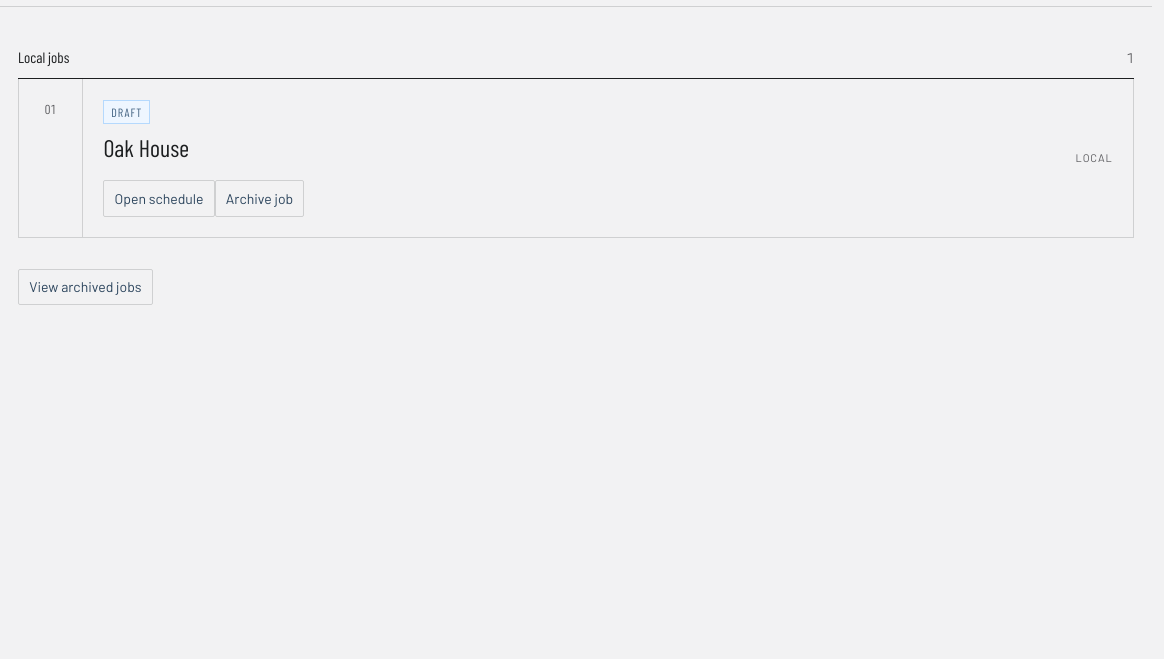
Scenario: task workspace › edits duration only in working days, preserves existing minute values, and rejects fractional-minute days
The width and height of the screenshot is (1164, 659).
Step 1. Click the button with aria-label "Open schedule for Oak House" → [159, 198], box [103,180,215,217]
(page scrolled)
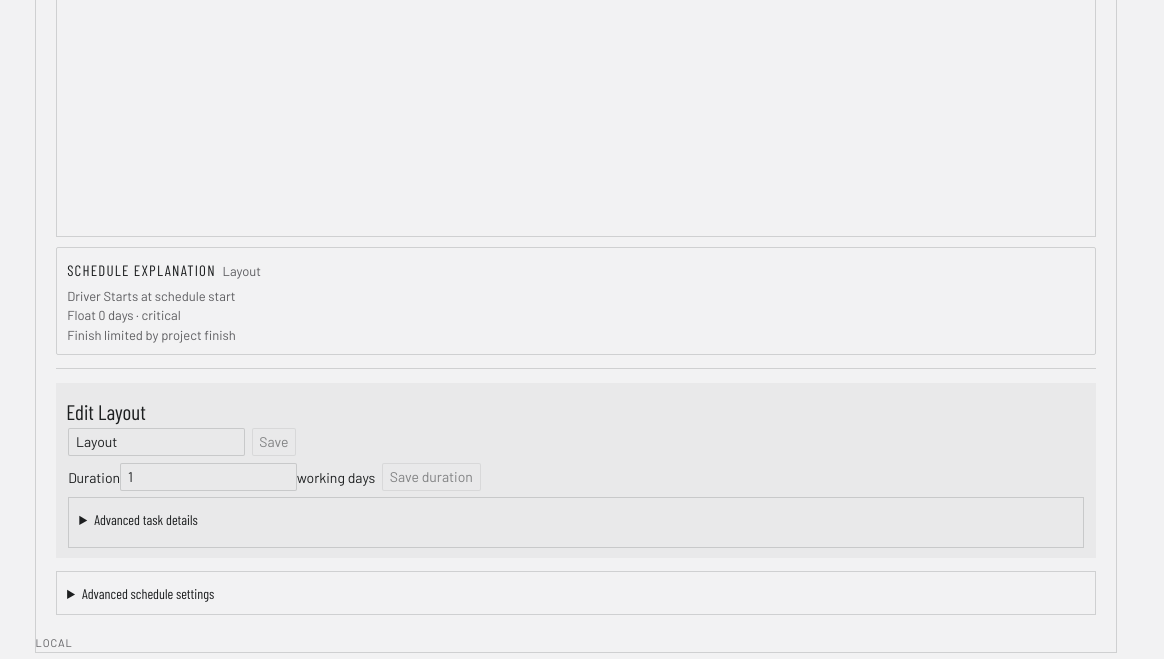
Step 2. Replace the text in the number field named "Duration for Layout" with "2" → [208, 477], box [120,463,297,491]
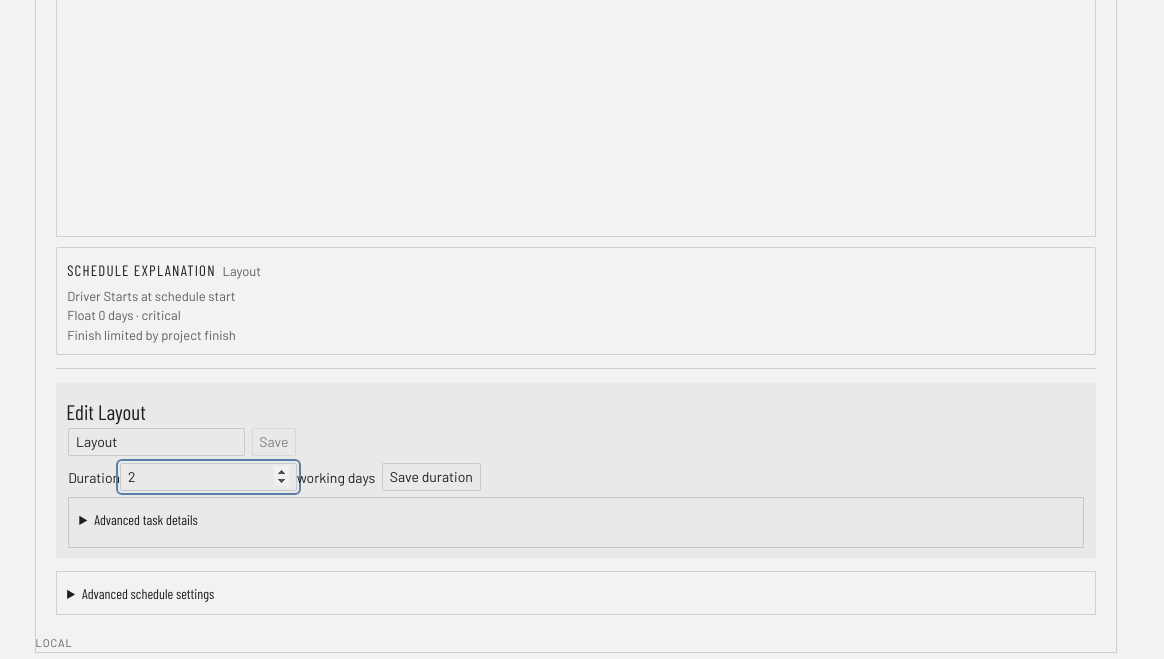
Step 3. Click the button "Save duration" → [431, 477], box [382,463,481,491]
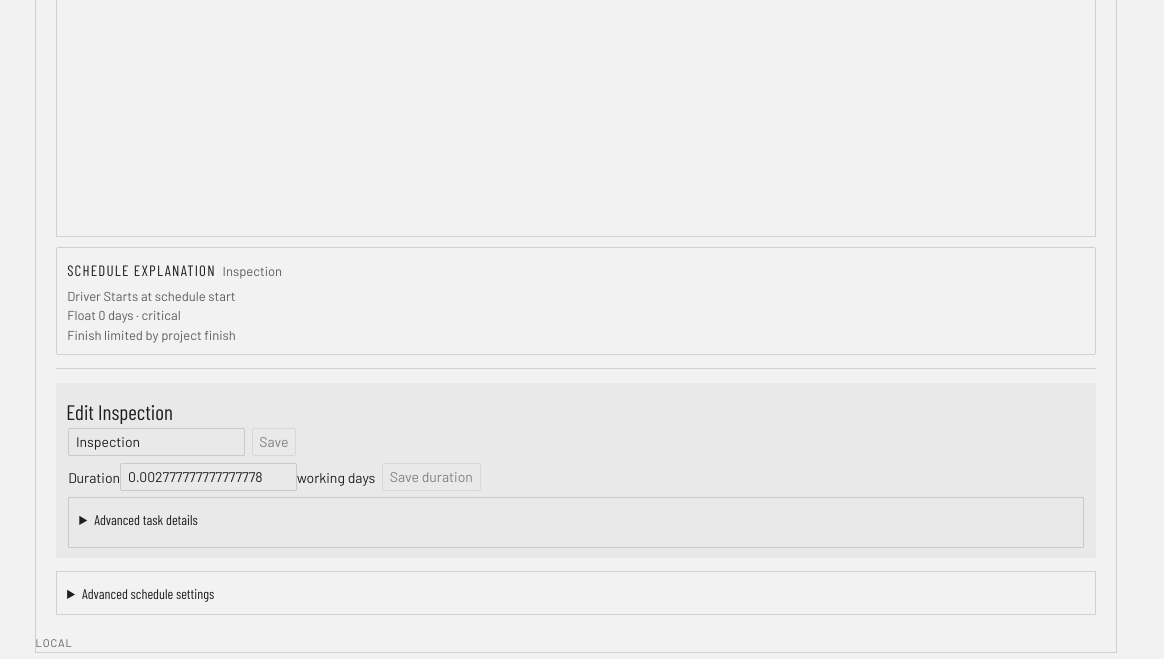
Check: the heading "Edit Inspection" is shown, box [66,399,173,424]
Check: the number field named "Duration for Inspection" holds "0.002777777777777778"
Check: the button "Save duration" is disabled, box [382,463,481,491]
Step 4. Replace the text in the number field named "Duration for Inspection" with "0.0001" → [208, 477], box [120,463,297,491]
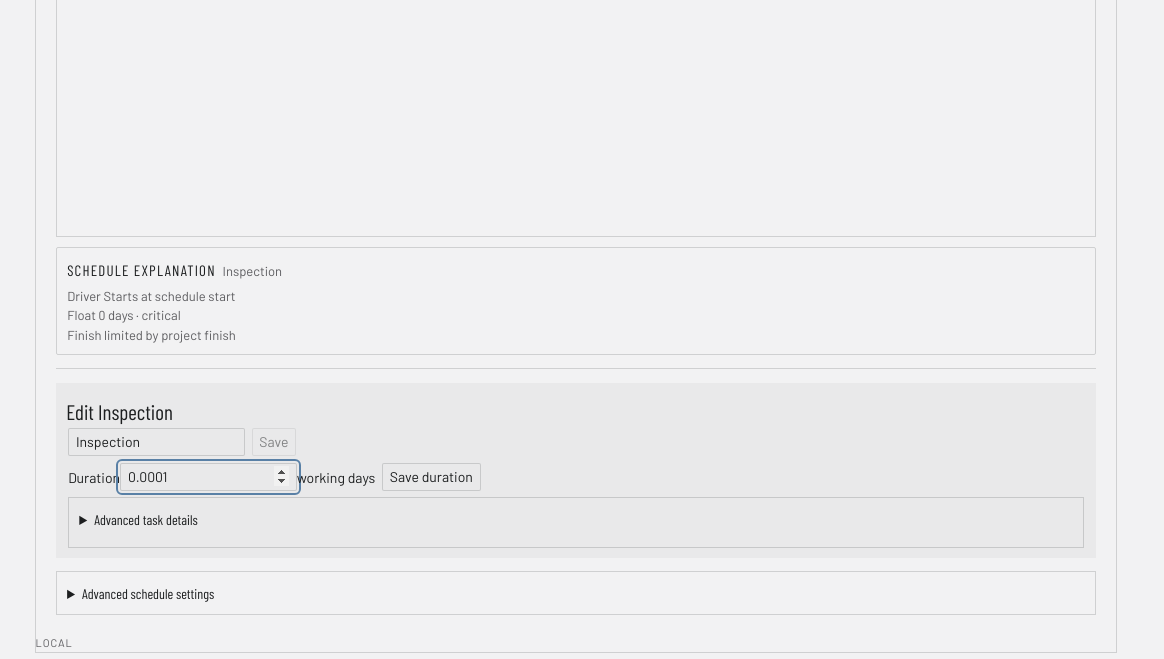
Step 5. Click the button "Save duration" → [431, 477], box [382,463,481,491]
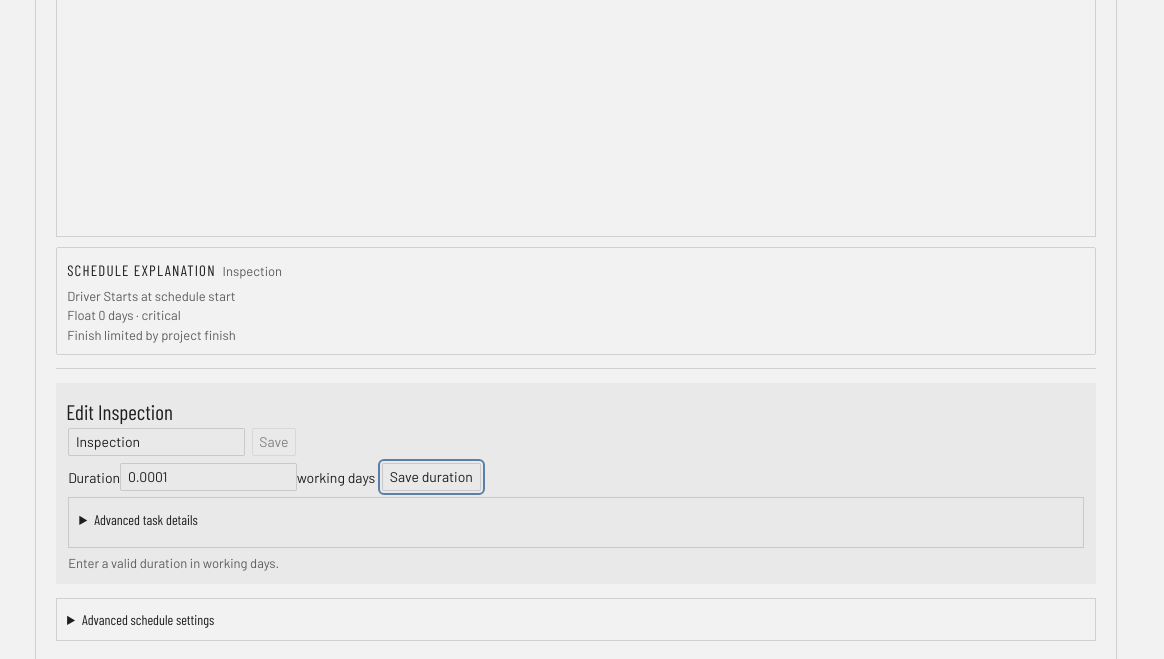
Check: the text "Enter a valid duration in working days." is shown, box [68,555,279,571]
